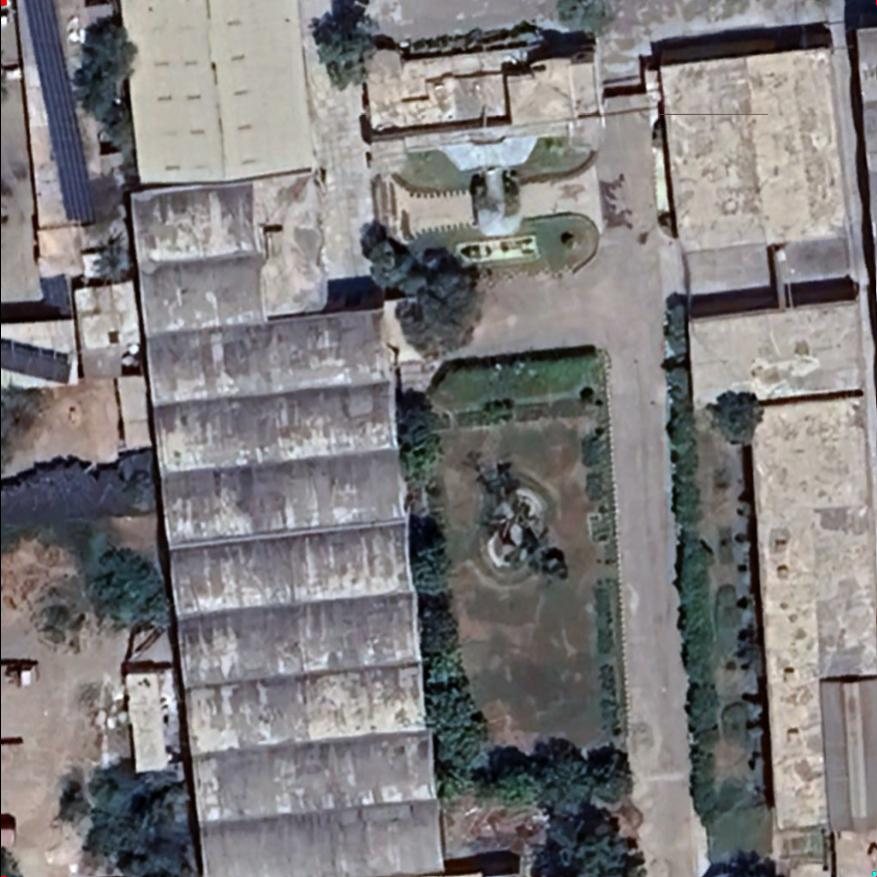Solarpanel: (17, 0, 101, 234), (0, 337, 74, 387)
